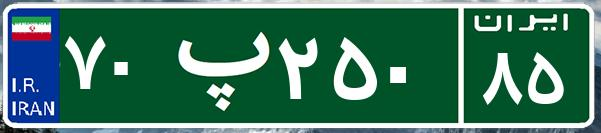0: (385, 28, 445, 110), (110, 28, 158, 105)
2: (273, 28, 330, 110)
5: (330, 28, 385, 110), (525, 38, 570, 115)
7: (57, 26, 110, 107)
8: (475, 38, 525, 113)
پ: (158, 15, 273, 115)
